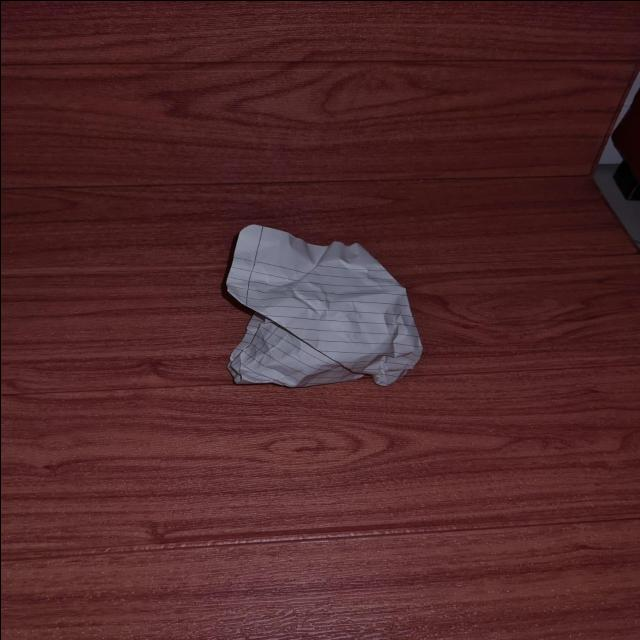kertas: (210, 222, 437, 390)
